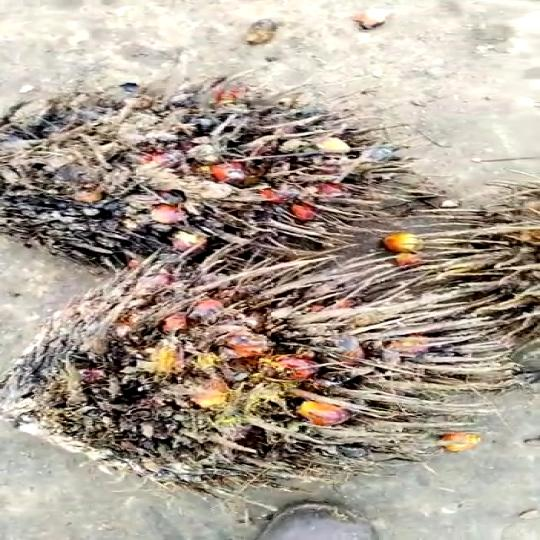terlalu masak: (0, 258, 479, 500), (0, 83, 387, 270)
